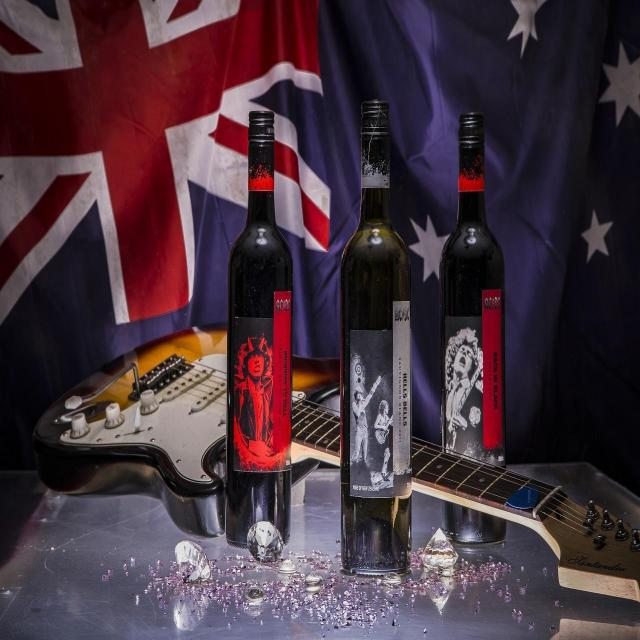bottle-glass: (338, 98, 413, 580), (224, 109, 295, 551), (440, 110, 510, 548)
